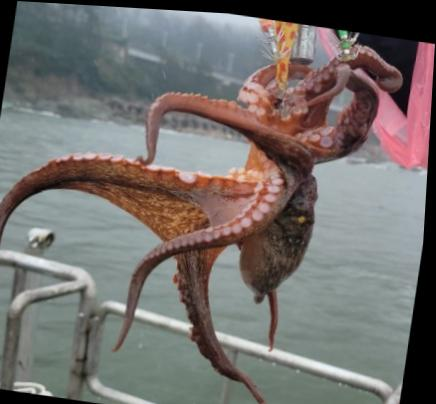Cephalopod: (0, 42, 403, 404)
